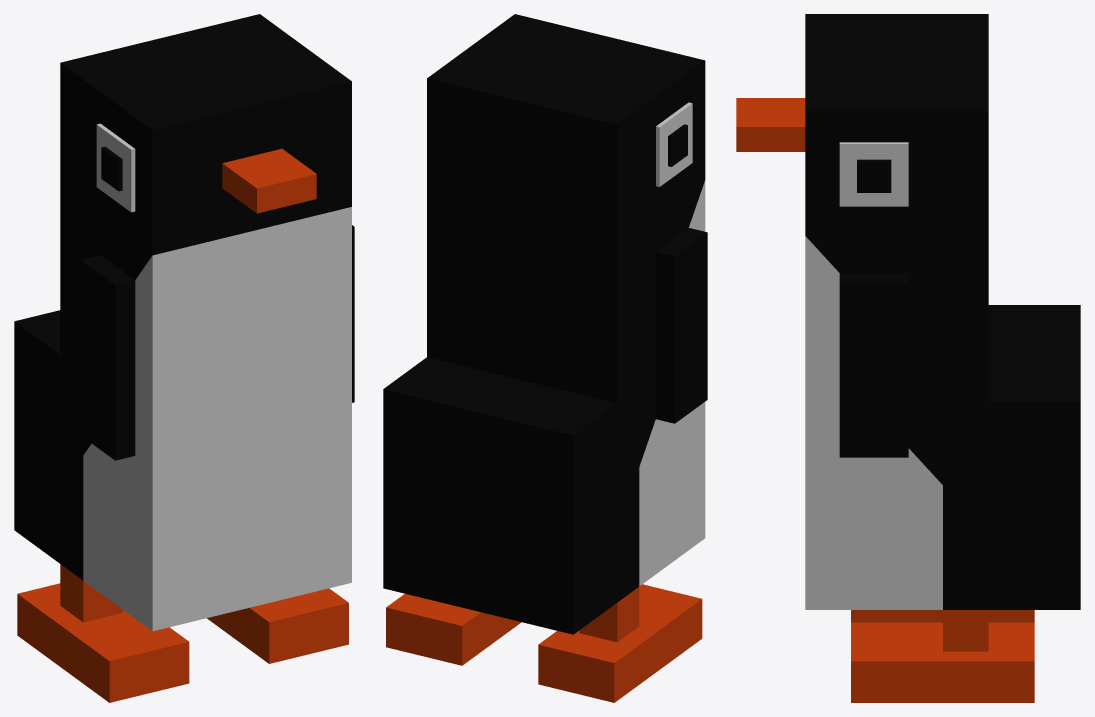
The model's file is penguin.obj.
3 views of the same model, side by side, from view 1: azimuth 30°, elevation 25°; view 2: azimuth 150°, elevation 25°; view 3: azimuth 270°, elevation 25° (orthographic). The views are drawn at different scales.
Visible parts, largest first — view 1: Cube; view 2: Cube; view 3: Cube.
Part boxes in pixels (box(x1,y1,x2,y2)): Cube: box(14, 14, 354, 702); Cube: box(383, 14, 707, 702); Cube: box(736, 14, 1080, 702).
Size of the model in its own units: 6 by 14 by 7.5.
